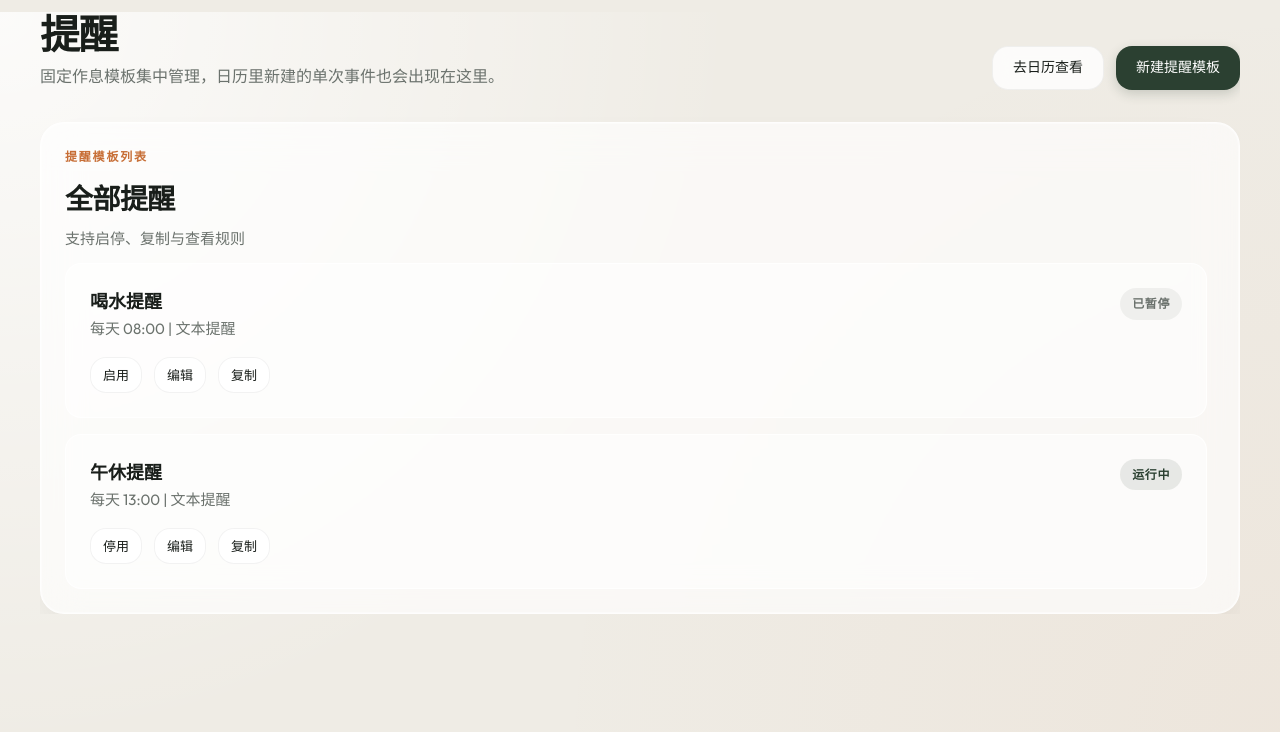
RemindersPage › keeps other templates when toggling one template and supports enabling again
Click the button "启用" at (116, 375), box [90,357,142,393]
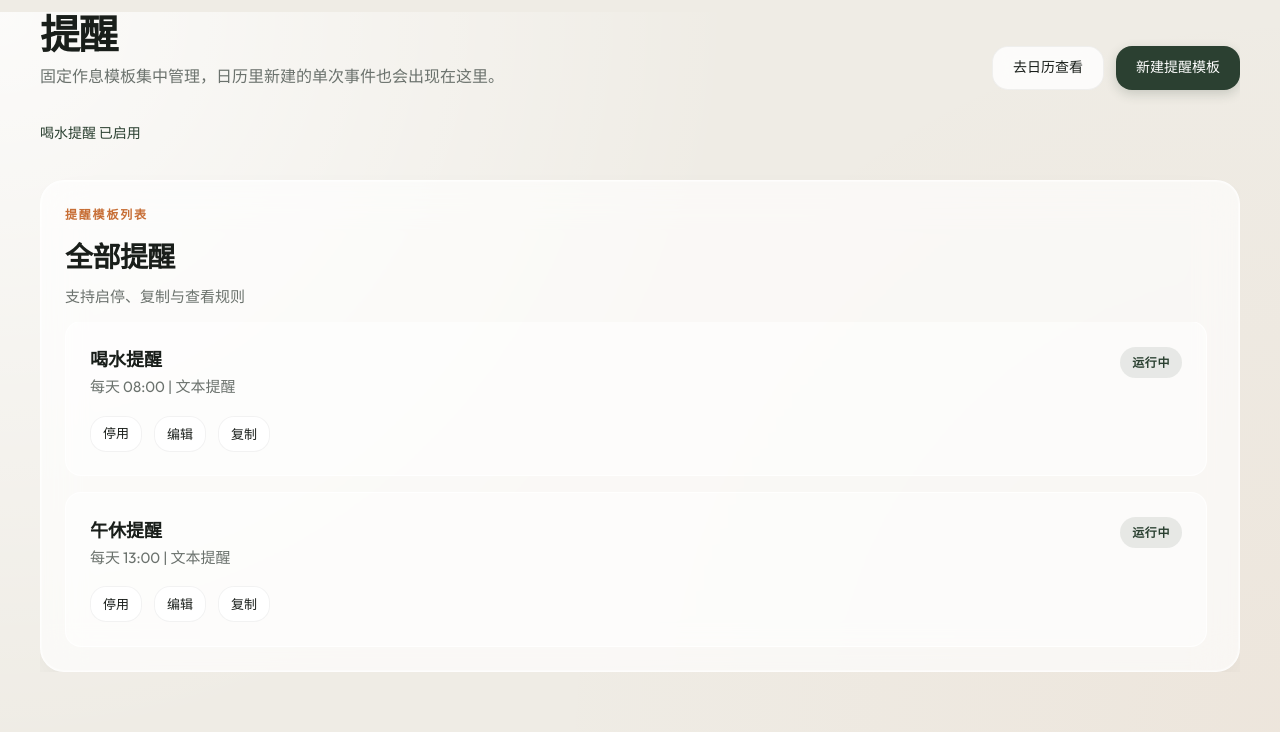
Check: the text "午休提醒" is shown, box [90,520,162,543]
Check: the text "喝水提醒 已启用" is shown, box [40,124,141,142]
Check: the 1st text "运行中" is shown, box [1120,347,1182,378]
